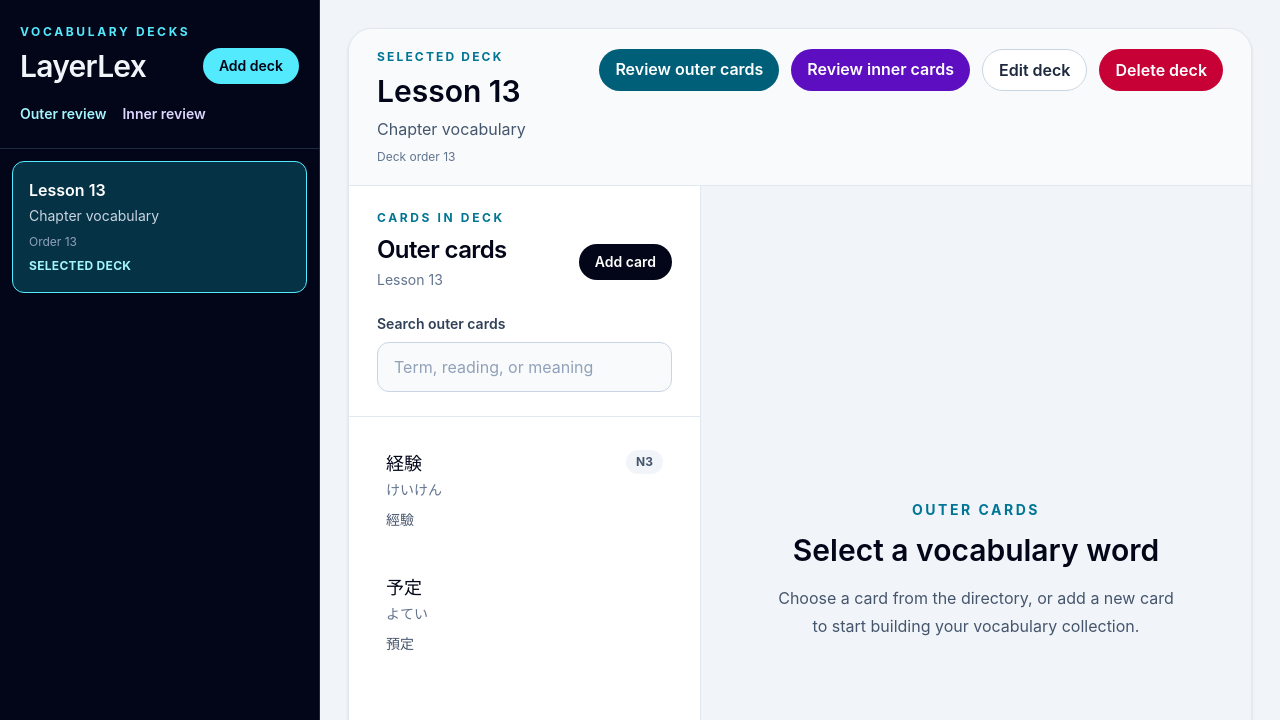
Test: deck management › deletes an empty deck after confirmation and clears selection
Expected: the heading "Lesson 13" is shown, [377, 73, 526, 109]
Click the button "Delete deck" at (1161, 70), box [1100, 49, 1223, 91]
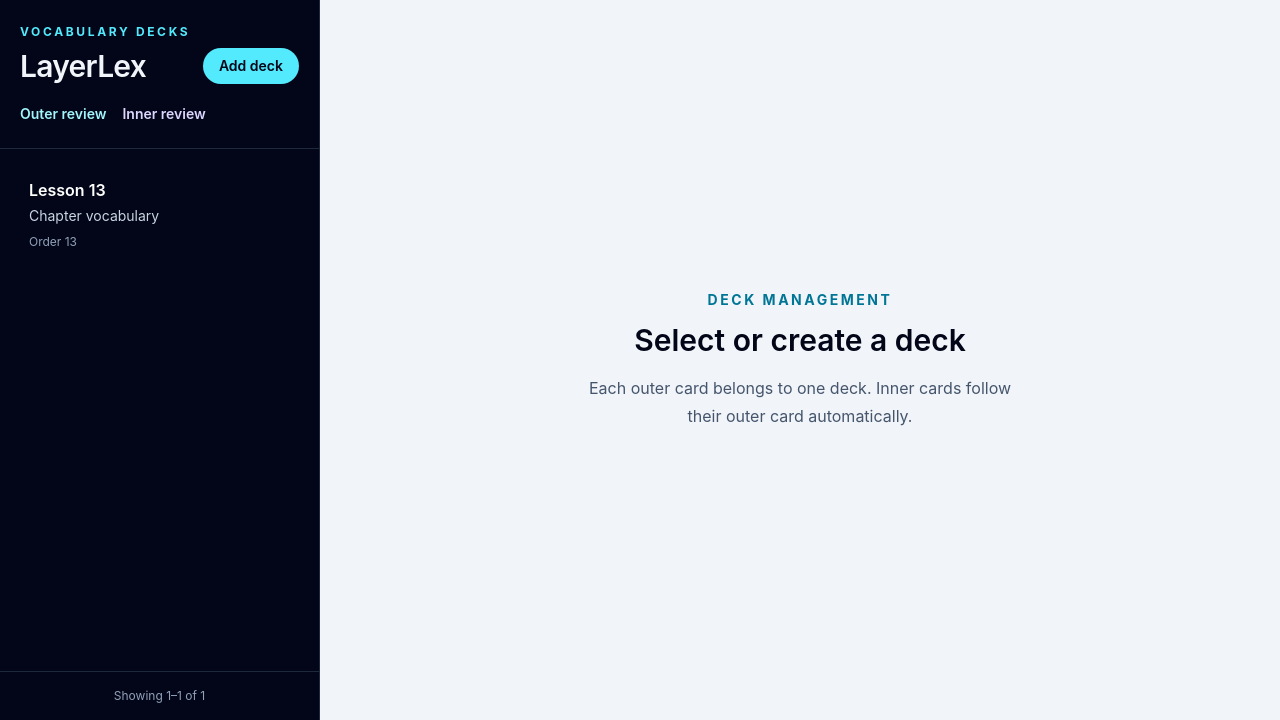
Now the heading "Select or create a deck" is shown, box [634, 322, 966, 358]
